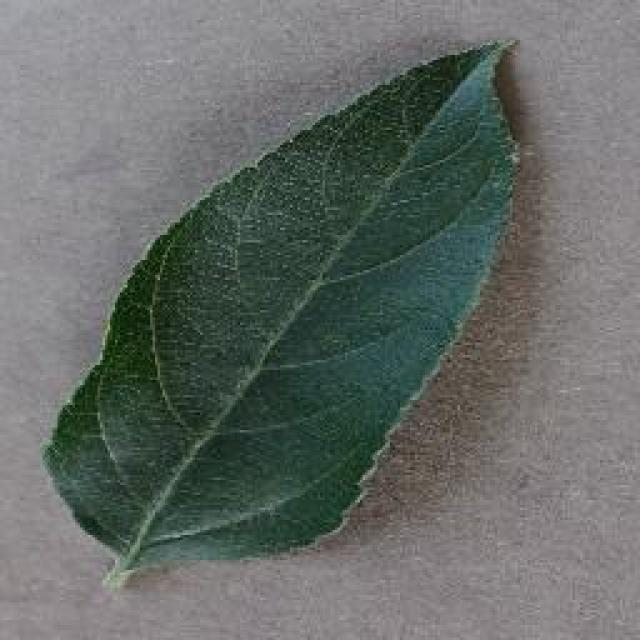apple healthy: (40, 32, 525, 590)
